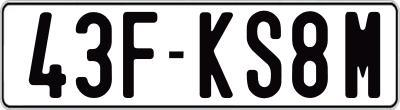3: (74, 9, 115, 96)
4: (26, 12, 69, 102)
8: (289, 11, 331, 102)
F: (123, 12, 161, 101)
K: (197, 12, 230, 99)
M: (343, 9, 379, 100)
S: (244, 8, 279, 95)
